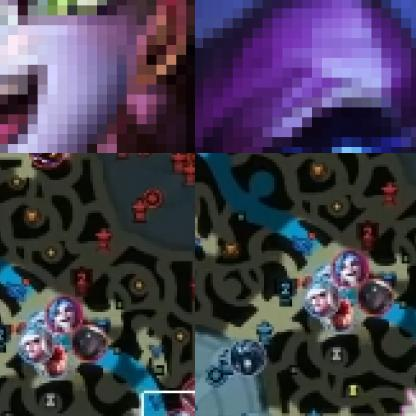Fiora: (179, 378, 194, 415)
Janna: (17, 328, 55, 364), (303, 282, 341, 318)
Jax: (195, 0, 415, 152)
Jinx: (46, 296, 84, 335), (333, 250, 370, 289)
Karthus: (230, 337, 268, 378)
Lee Sin: (32, 343, 72, 379), (318, 297, 358, 333)
Lulu: (0, 0, 194, 152)
Senna: (71, 323, 110, 363), (357, 277, 396, 317)
Veigar: (29, 153, 69, 170)
